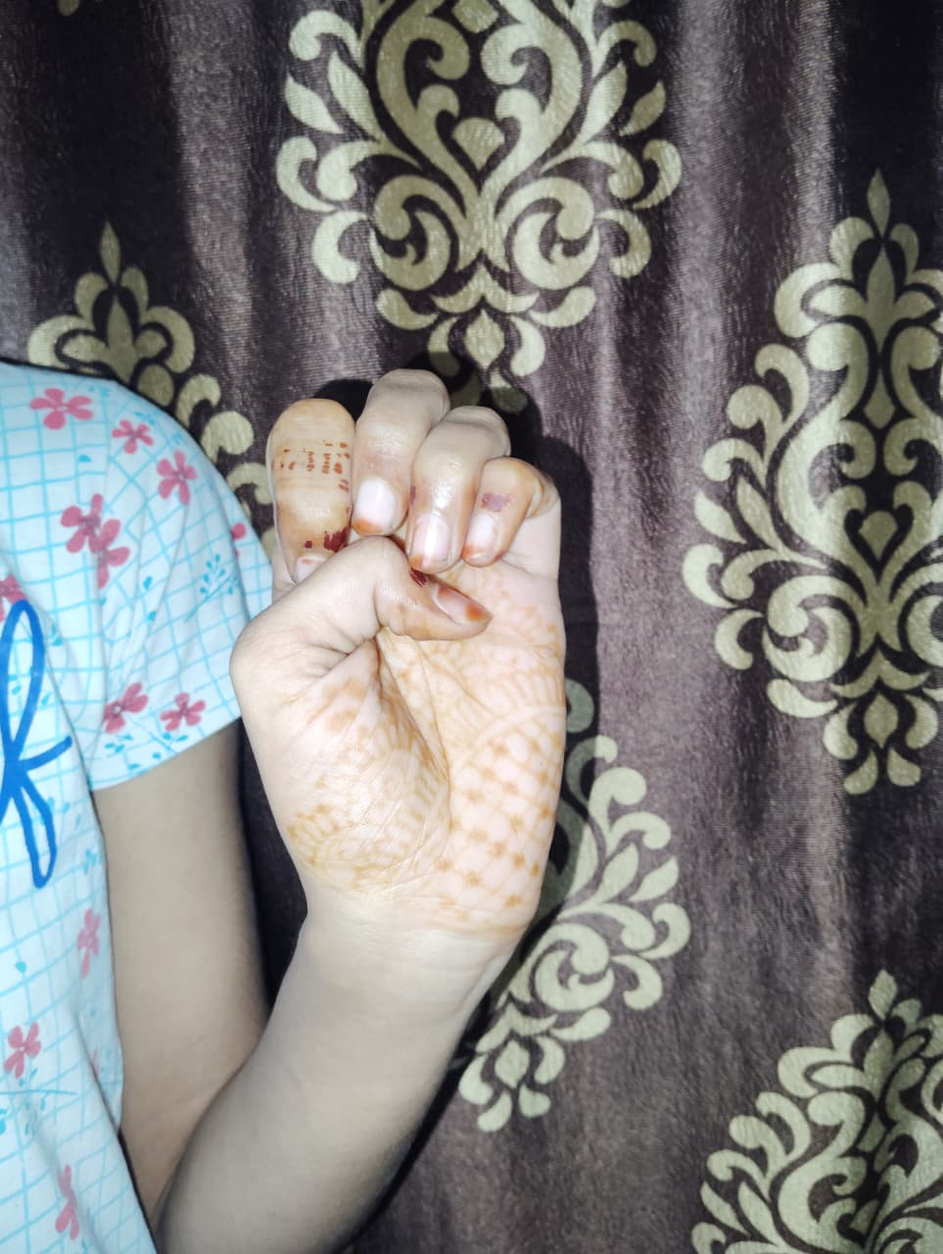E: (229, 367, 564, 915)
